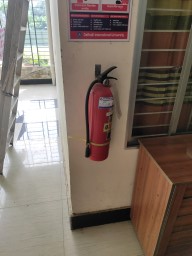fire_extinguisher: (48, 93, 121, 143)
